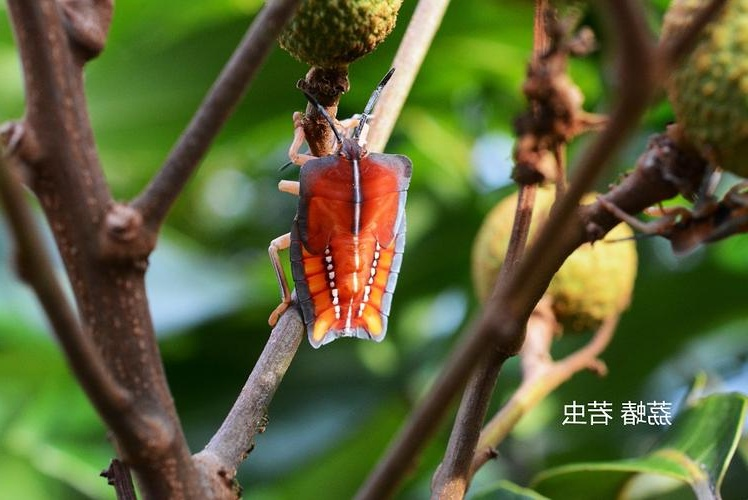Stink_Bug: (291, 118, 397, 350)
